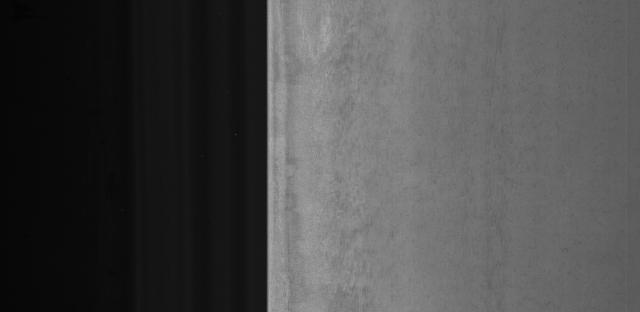silk_spot: (315, 37, 404, 302)
